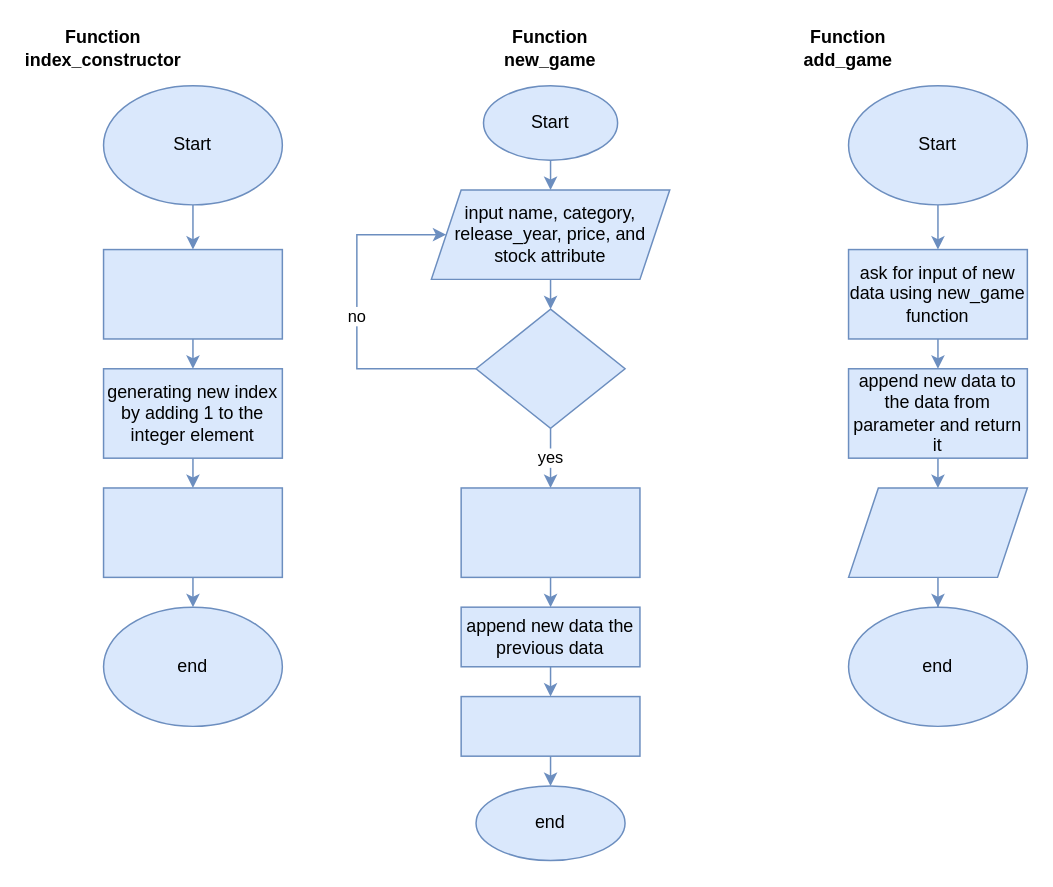
Some shapes in this 1053 by 887 pixel diagram are drawn without their labels. The shapes that lost their labels are listed below. From the top down, each one's box as (x1, y1, x2, y2) in pixels, then its label:
(102, 248, 282, 339): fetching the last index of the data from parameter
(475, 308, 625, 428): are all the attributes inputted?
(102, 486, 282, 577): return new index
(460, 486, 640, 577): construct new index for the new data and generate new complete list
(847, 486, 1027, 577): print out success message
(460, 695, 640, 756): return new data
